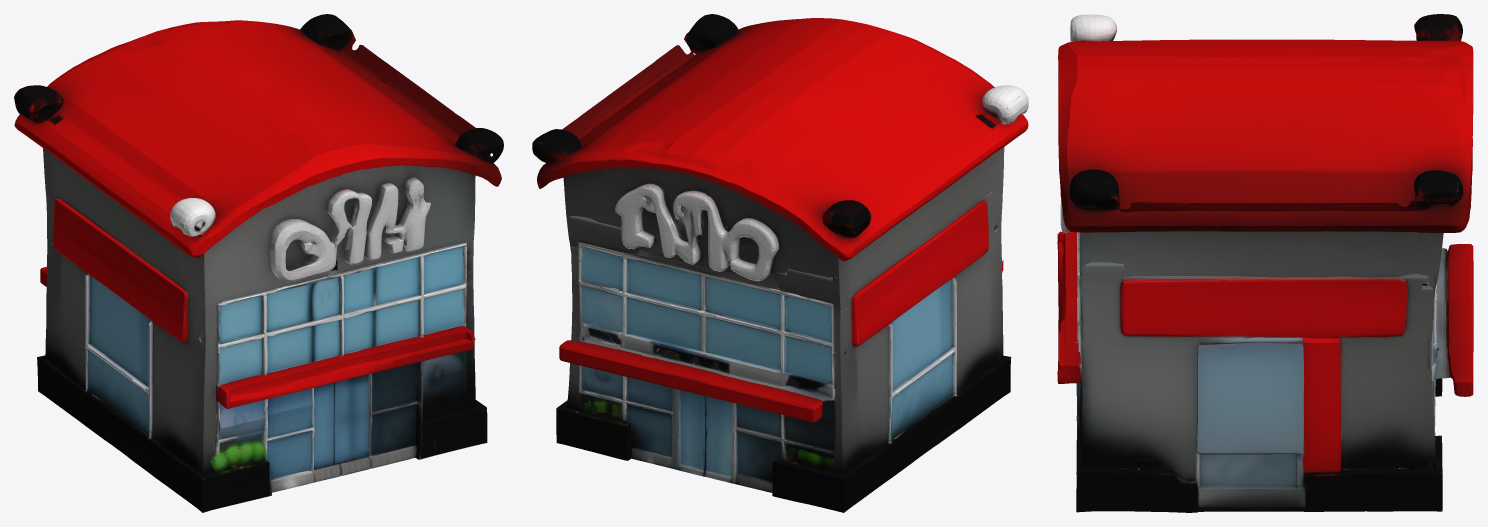
File: gymnasium.glb
3 views of the same model, side by side, from view 1: azimuth 30°, elevation 25°; view 2: azimuth 150°, elevation 25°; view 3: azimuth 270°, elevation 25° (orthographic). The views are drawn at different scales.
Parts seen in each view (by area): view 1: world; view 2: world; view 3: world.
Boxes of the visible parts, x1,y1,x2,y2 form: world: (14,14,503,512); world: (532,14,1028,512); world: (1057,14,1473,512).
Size of the model in its own units: 1 by 0.9778 by 1.
Materials: 1 (1 with a texture image).
